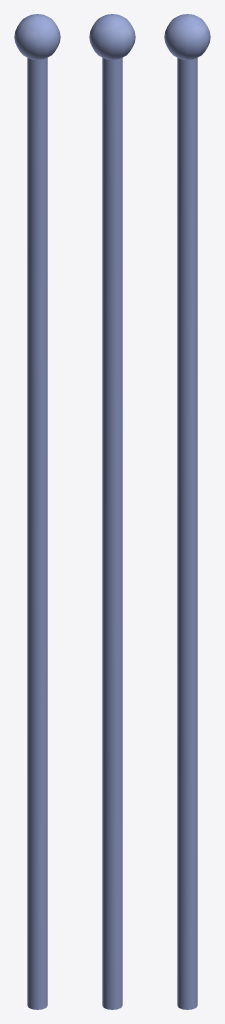
The model's file is SM_FlagPole_01.fbx.
3 views of the same model, side by side, from view 1: azimuth 90°, elevation 25°; view 2: azimuth 150°, elevation 25°; view 3: azimuth 270°, elevation 25° (orthographic).
Visible parts, largest first — view 1: SM_FlagPole_01; view 2: SM_FlagPole_01; view 3: SM_FlagPole_01.
Part boxes in pixels (x1=…): SM_FlagPole_01: x1=14, y1=14, x2=60, y2=1009; SM_FlagPole_01: x1=89, y1=14, x2=135, y2=1009; SM_FlagPole_01: x1=164, y1=14, x2=210, y2=1009.
Bounding box in the file's own units: 27.19 × 640 × 27.19.
